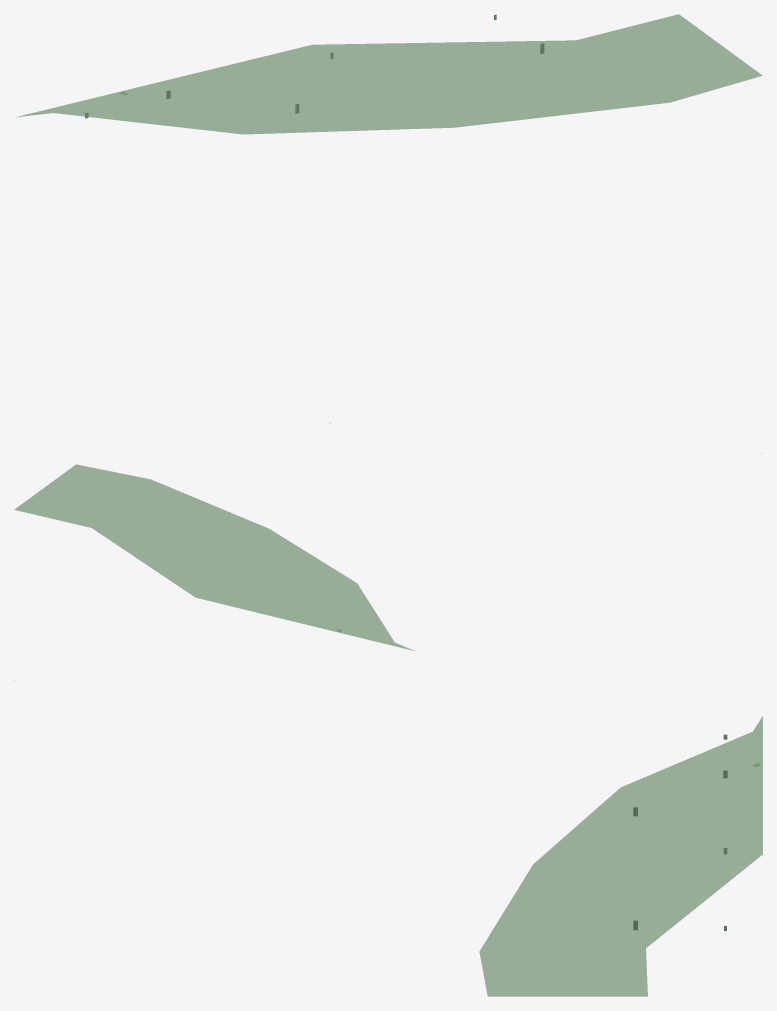
The picture shows the model from 3 angles, top to bottom: view 1: azimuth 30°, elevation 25°; view 2: azimuth 150°, elevation 25°; view 3: azimuth 270°, elevation 25°; orthographic projection. The views are drawn at different scales.
Bounding box in the file's own units: 500 × 8.2 × 500.
